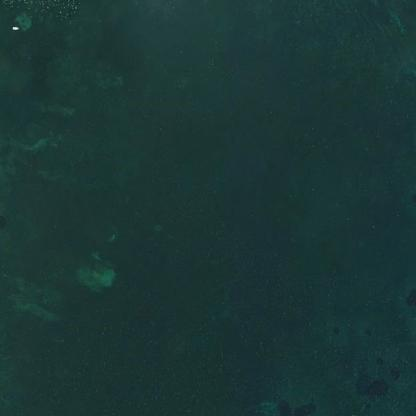ship: (8, 21, 22, 34)
